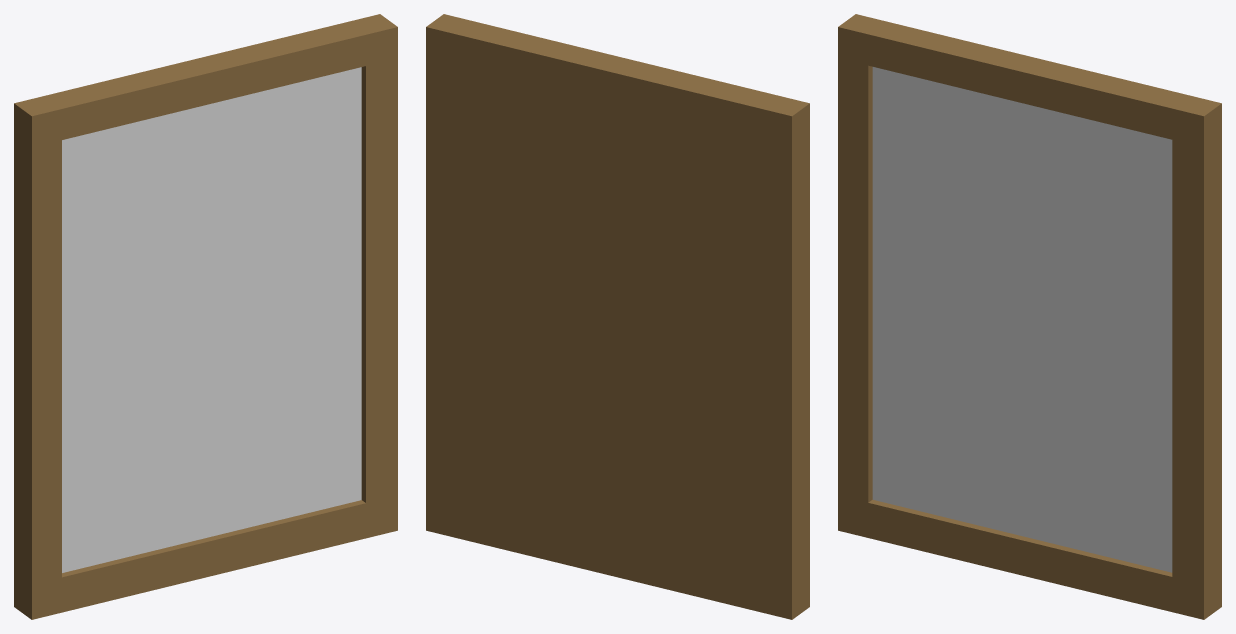
File: portrait.fbx
3 renders of one model, left to right at view 1: azimuth 30°, elevation 25°; view 2: azimuth 150°, elevation 25°; view 3: azimuth 330°, elevation 25°, orthographic.
Visible parts, largest first — view 1: pCube1; view 2: pCube1; view 3: pCube1.
Part boxes in pixels (bbox=[...]): pCube1: bbox=[14, 14, 397, 619]; pCube1: bbox=[426, 14, 809, 619]; pCube1: bbox=[838, 14, 1221, 619].
Bounding box in the file's own units: 0.4592 × 0.6037 × 0.0386.
